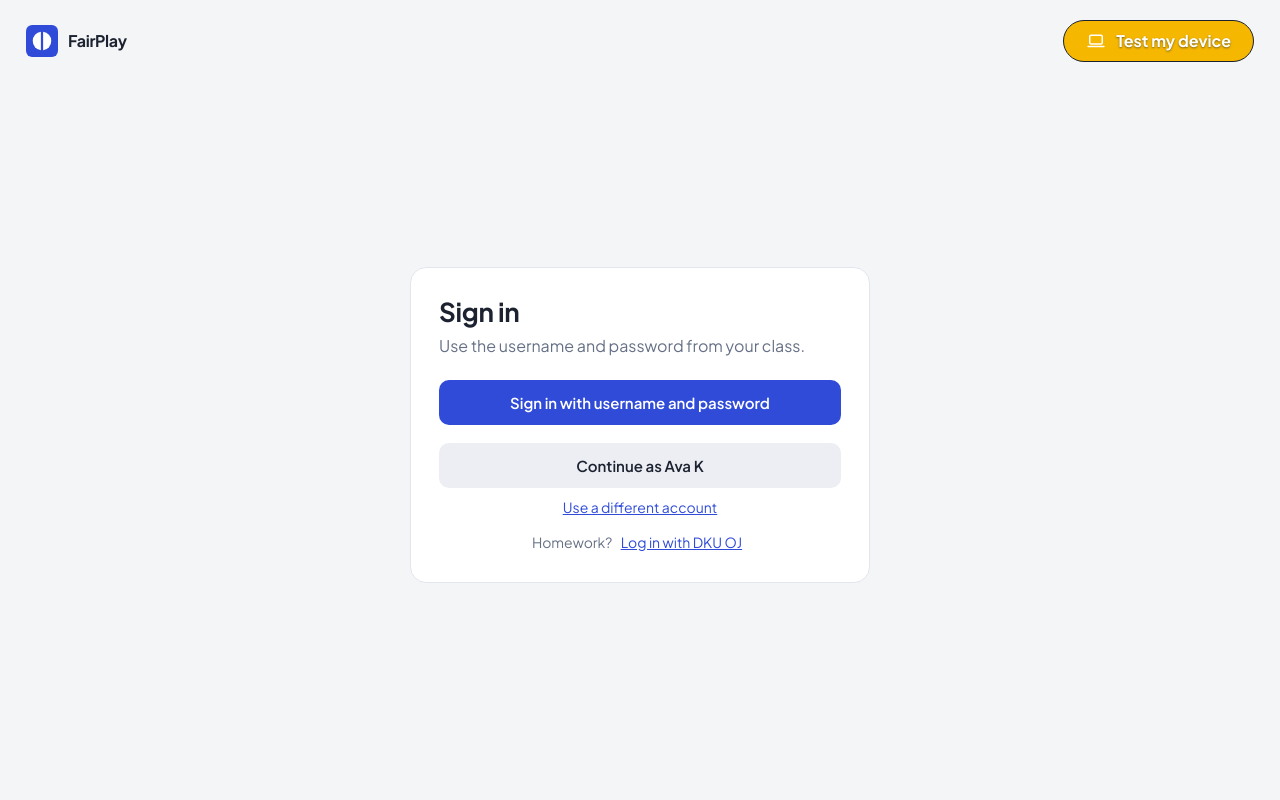
Continue as › 403: shows the no-class message
Click the button "Continue as Ava K". click: (640, 465)
box: [439, 443, 841, 488]
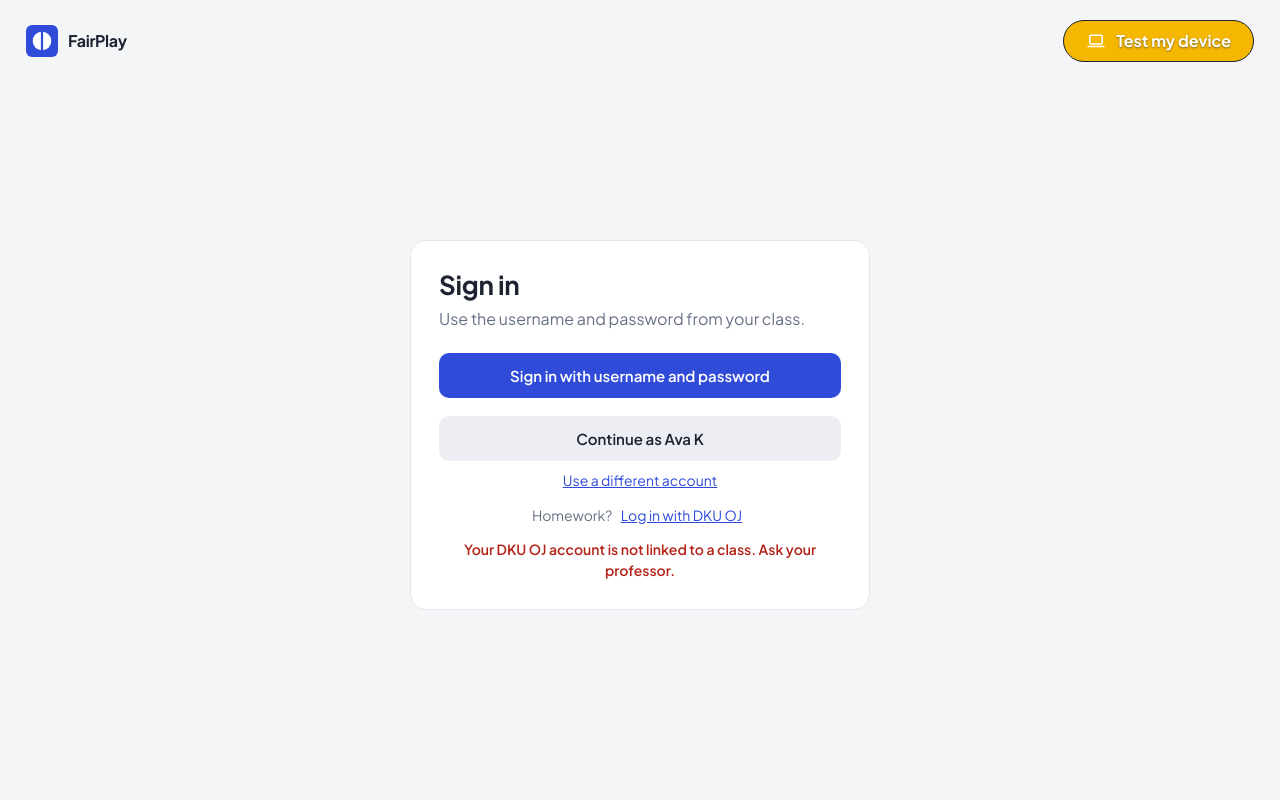
Check: the message reads "Your DKU OJ account is not linked to a class. Ask your professor.", box [464, 540, 816, 579]
